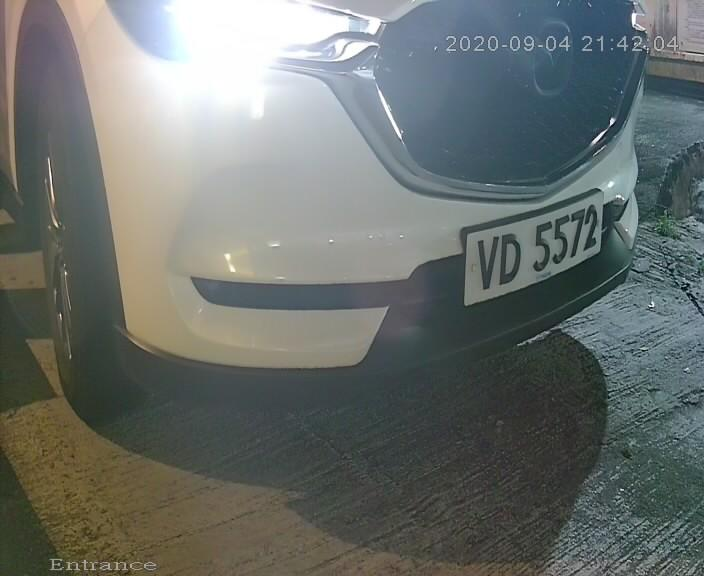License Plate: (447, 181, 610, 317)
